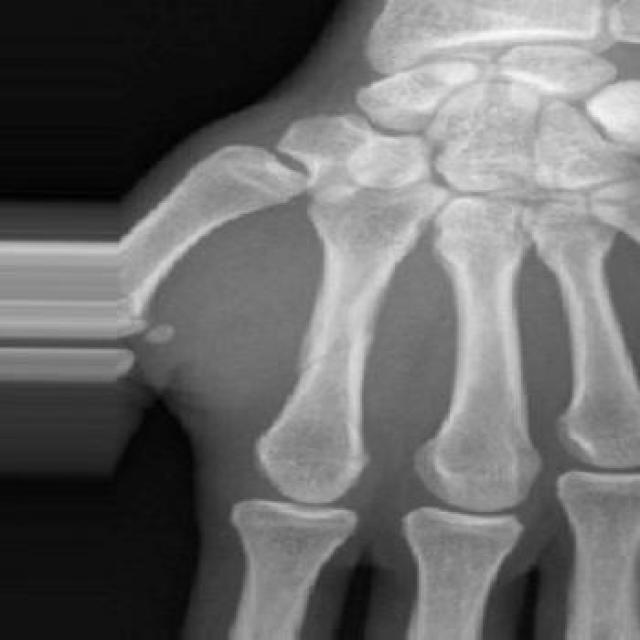Fracture: (280, 328, 375, 376)
